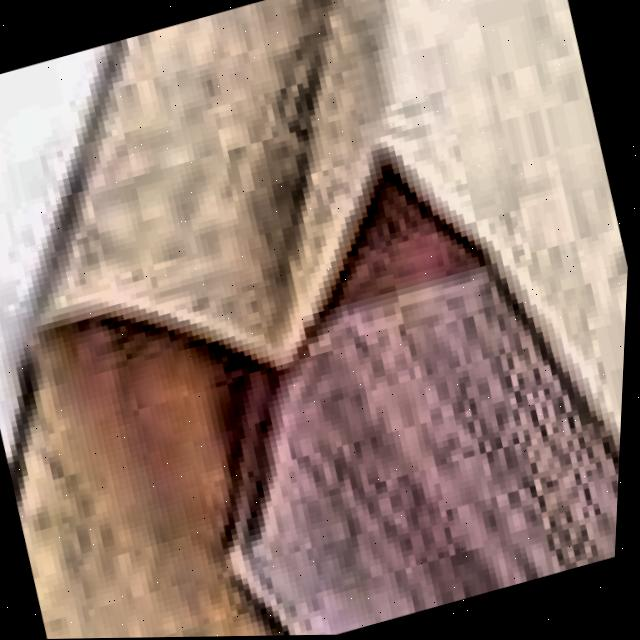paper: (16, 0, 630, 639), (224, 265, 623, 636)
